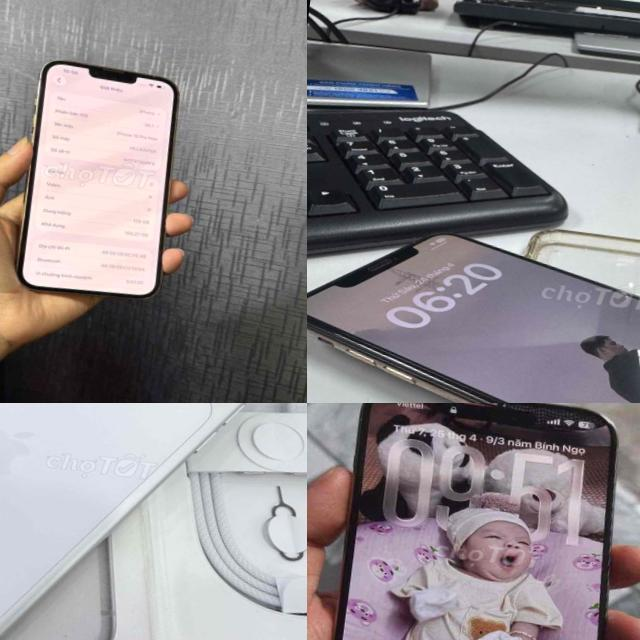gen_12_13: (0, 48, 187, 304)
gen_15: (307, 403, 640, 640)
gen_17: (0, 403, 307, 640)
gen_x_xs: (307, 211, 640, 403)
